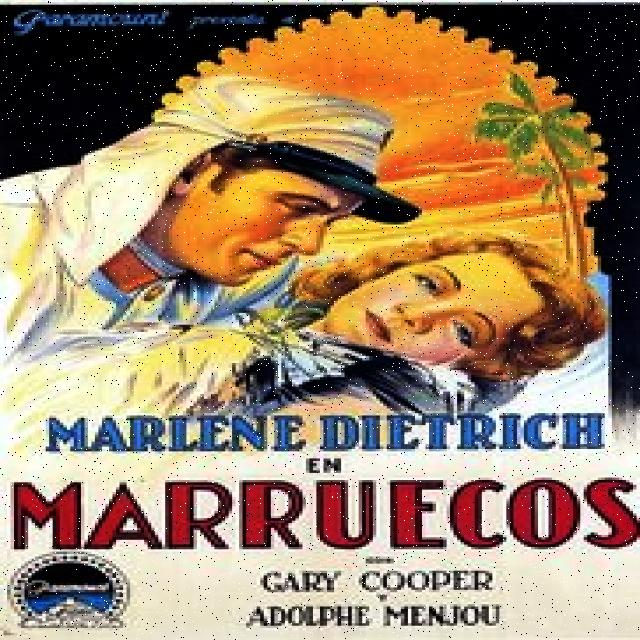movie-judul: (1, 403, 634, 637)
picture: (3, 10, 631, 406)
